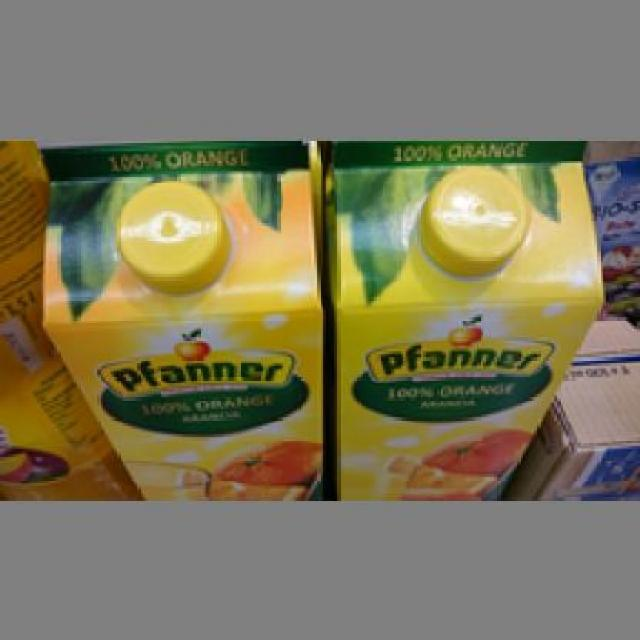Juice: (36, 140, 330, 494), (326, 140, 603, 494)
